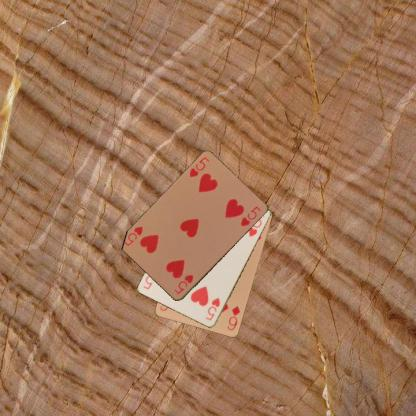5h: (187, 154, 210, 179), (172, 272, 194, 295), (203, 295, 221, 322)
6d: (224, 303, 242, 332)
